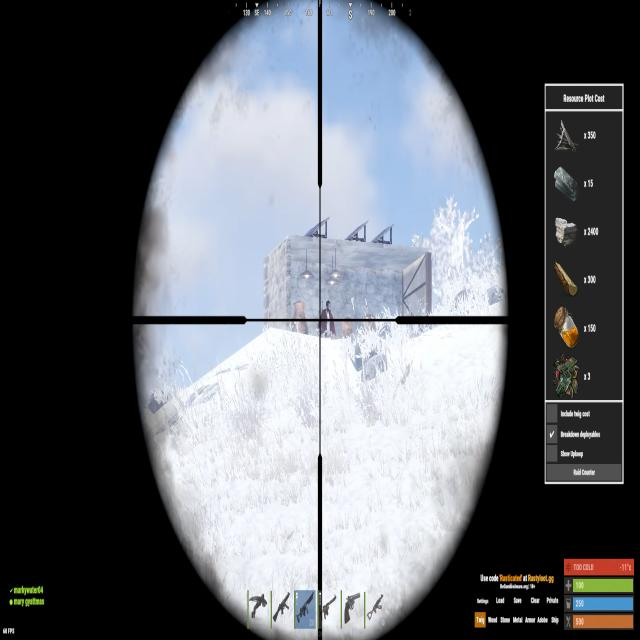Player: (317, 300, 336, 340)
